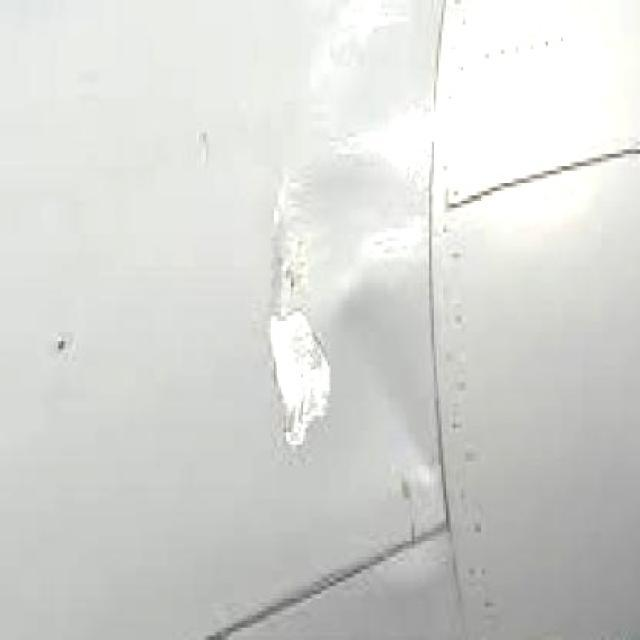dent: (335, 265, 441, 506), (267, 133, 335, 455), (298, 132, 417, 309)
